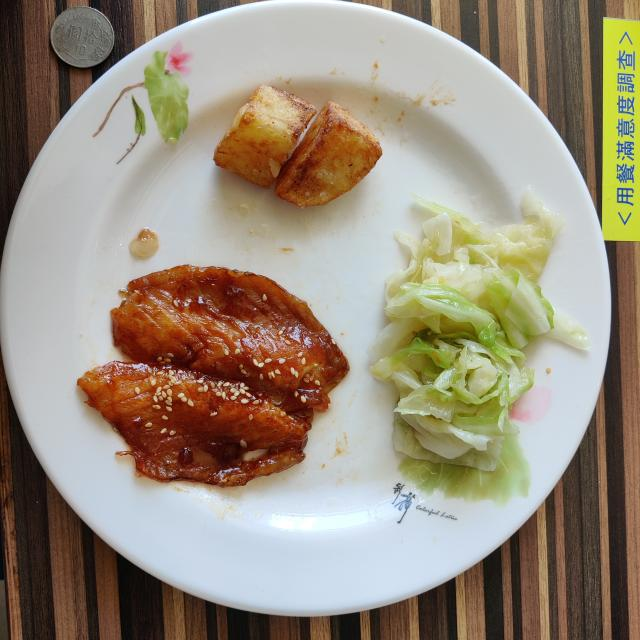Kabayaki sea bream fillet: (78, 265, 349, 486)
cabbage: (370, 190, 589, 471)
coin: (50, 6, 114, 68)
fried potato: (214, 85, 381, 206)
